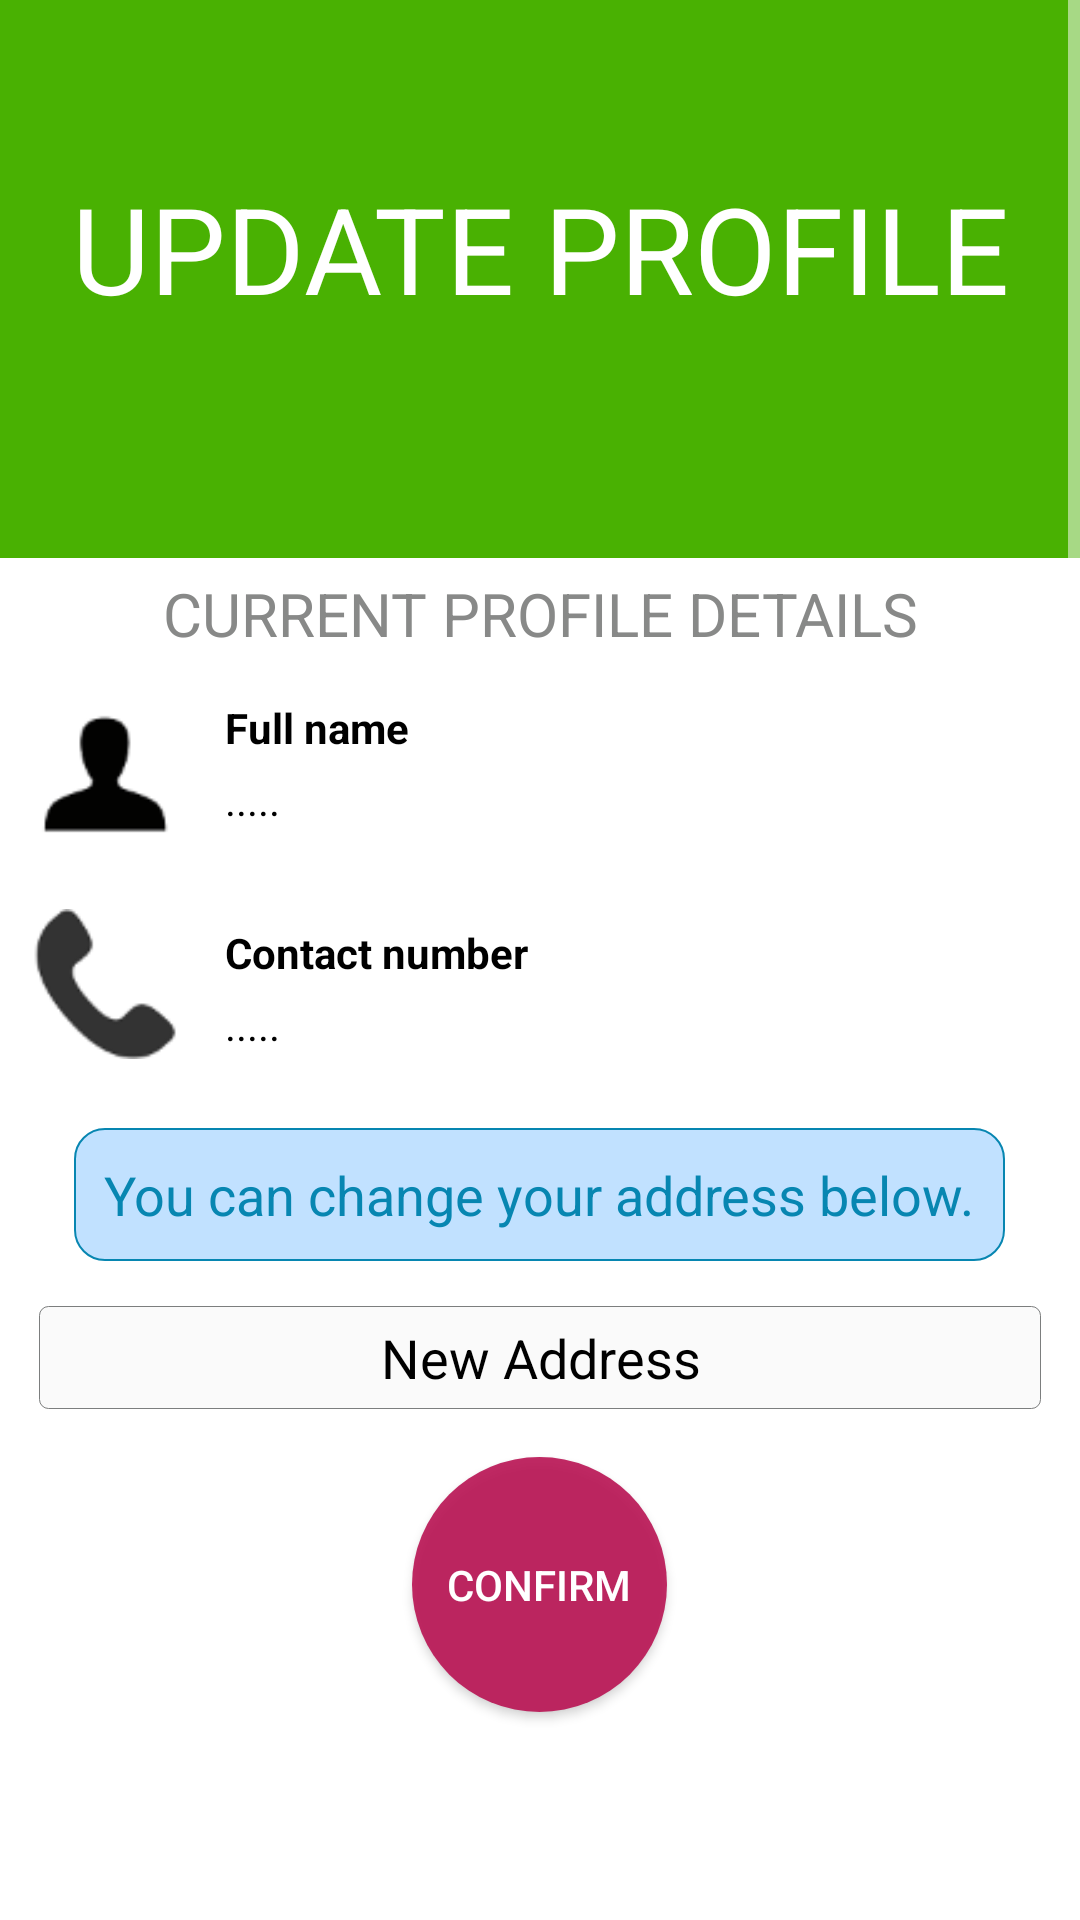

Icon bounding boxes for this 1080*1920 phone screenshot, format (x1, y1, x2, y2):
phone: (35, 909, 176, 1059)
